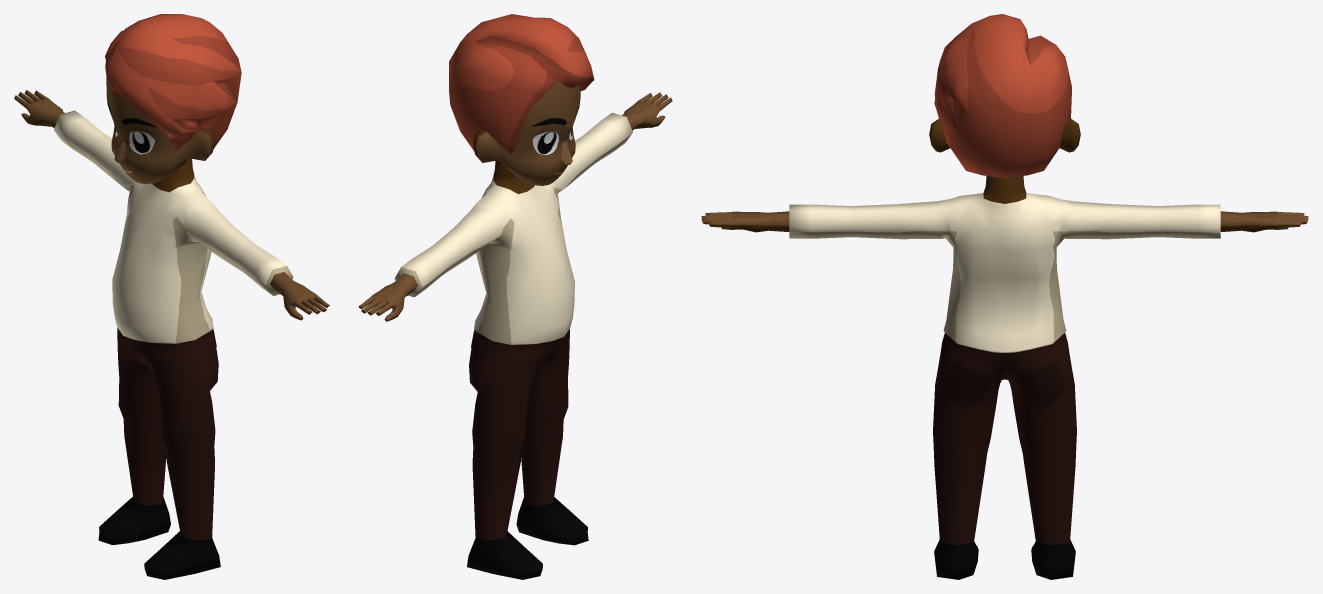
File: boy_2.fbx
3 renders of one model, left to right at view 1: azimuth 30°, elevation 25°; view 2: azimuth 150°, elevation 25°; view 3: azimuth 270°, elevation 25°, orthographic. The views are drawn at different scales.
Parts seen in each view (by area): view 1: boy2; view 2: boy2; view 3: boy2.
Boxes of the visible parts, x1,y1,x2,y2 form: boy2: [14, 14, 329, 579]; boy2: [358, 14, 672, 579]; boy2: [701, 14, 1308, 579].
Bounding box in the file's own units: 36.02 × 147 × 150.
Materials: 1 (1 with a texture image).
